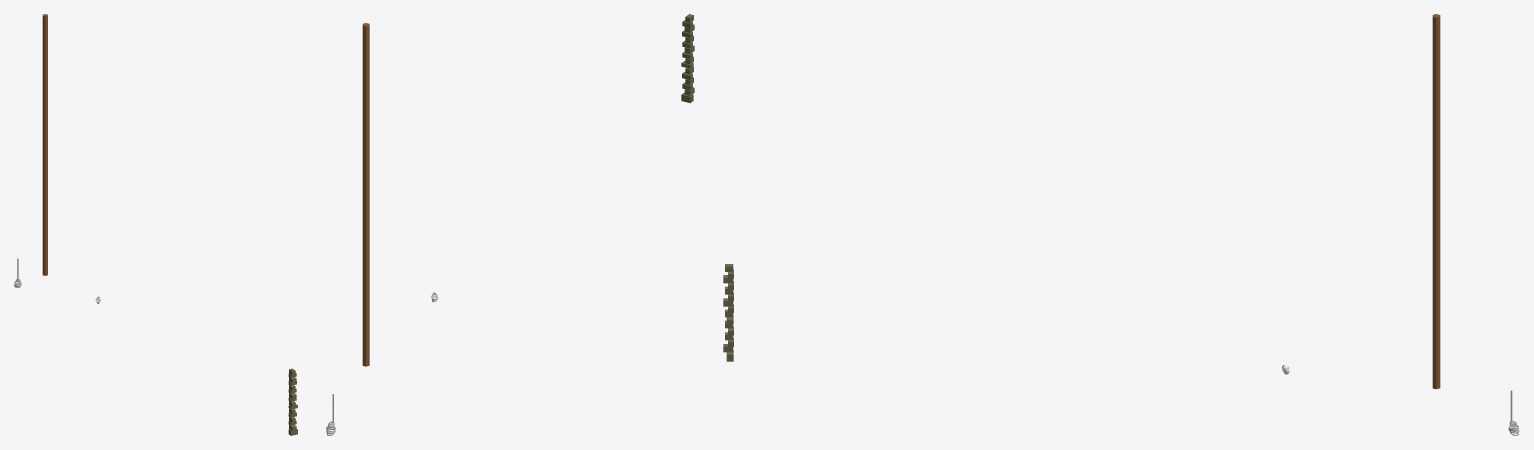
The picture shows the model from 3 angles, left to right: view 1: azimuth 30°, elevation 25°; view 2: azimuth 150°, elevation 25°; view 3: azimuth 270°, elevation 25°; orthographic projection. The views are drawn at different scales.
Visible parts, largest first — view 1: Cylinder1459_brown_0, Box15464_rock2_0; view 2: Cylinder1459_brown_0, Box15464_rock2_0; view 3: Cylinder1459_brown_0, Box15464_rock2_0.
Part boxes in pixels (left/top/right/bottom): Cylinder1459_brown_0: left=42, top=14, right=47, bottom=275; Box15464_rock2_0: left=288, top=368, right=297, bottom=435; Cylinder1459_brown_0: left=362, top=23, right=369, bottom=366; Box15464_rock2_0: left=681, top=14, right=694, bottom=103; Cylinder1459_brown_0: left=1432, top=14, right=1440, bottom=389; Box15464_rock2_0: left=723, top=264, right=733, bottom=361.
Size of the model in its own units: 94.15 by 3060 by 5267.
